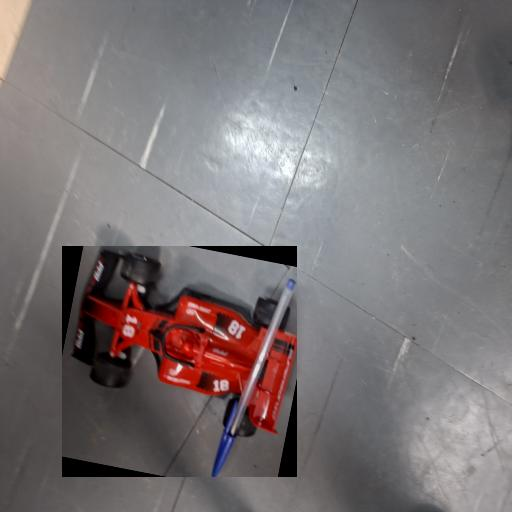carro: (62, 246, 297, 477)
